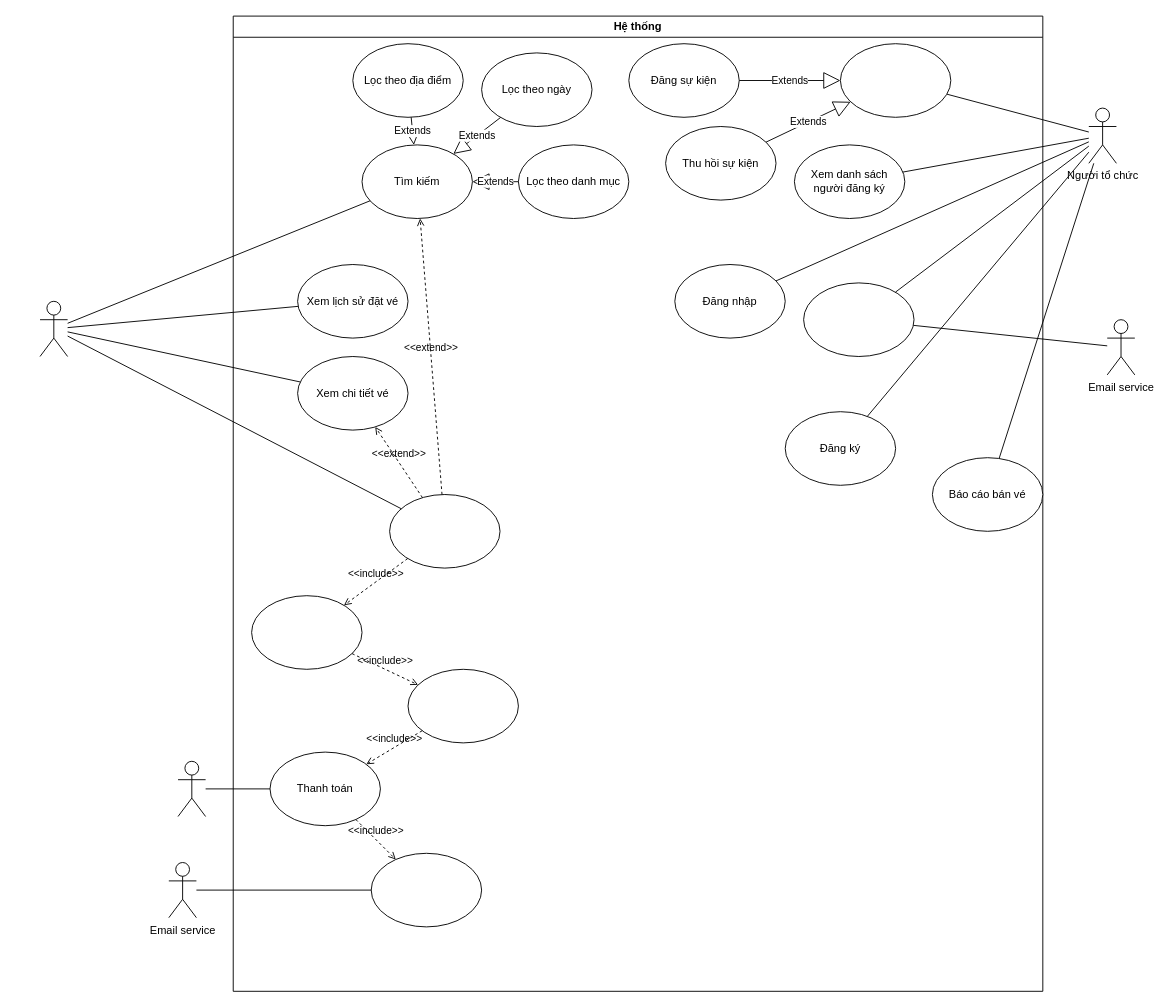
This 1169x1007 diagram has some shape labels left out. The shapes that lost their labels are listed below. From the top down, each one's box as (x1, y1, x2, y2) in pixels, then its label:
(840, 43, 951, 117): Tạo sự kiện (CRUD)
(39, 300, 68, 356): Người tham dự
(803, 282, 914, 356): Gửi mail thông báo
(389, 494, 500, 568): Mua vé
(251, 595, 362, 669): Nhập thông tin
(407, 668, 518, 743): Chọn loại vé
(177, 760, 206, 816): Ngân hàng
(370, 852, 482, 927): Gửi thông tin vé
